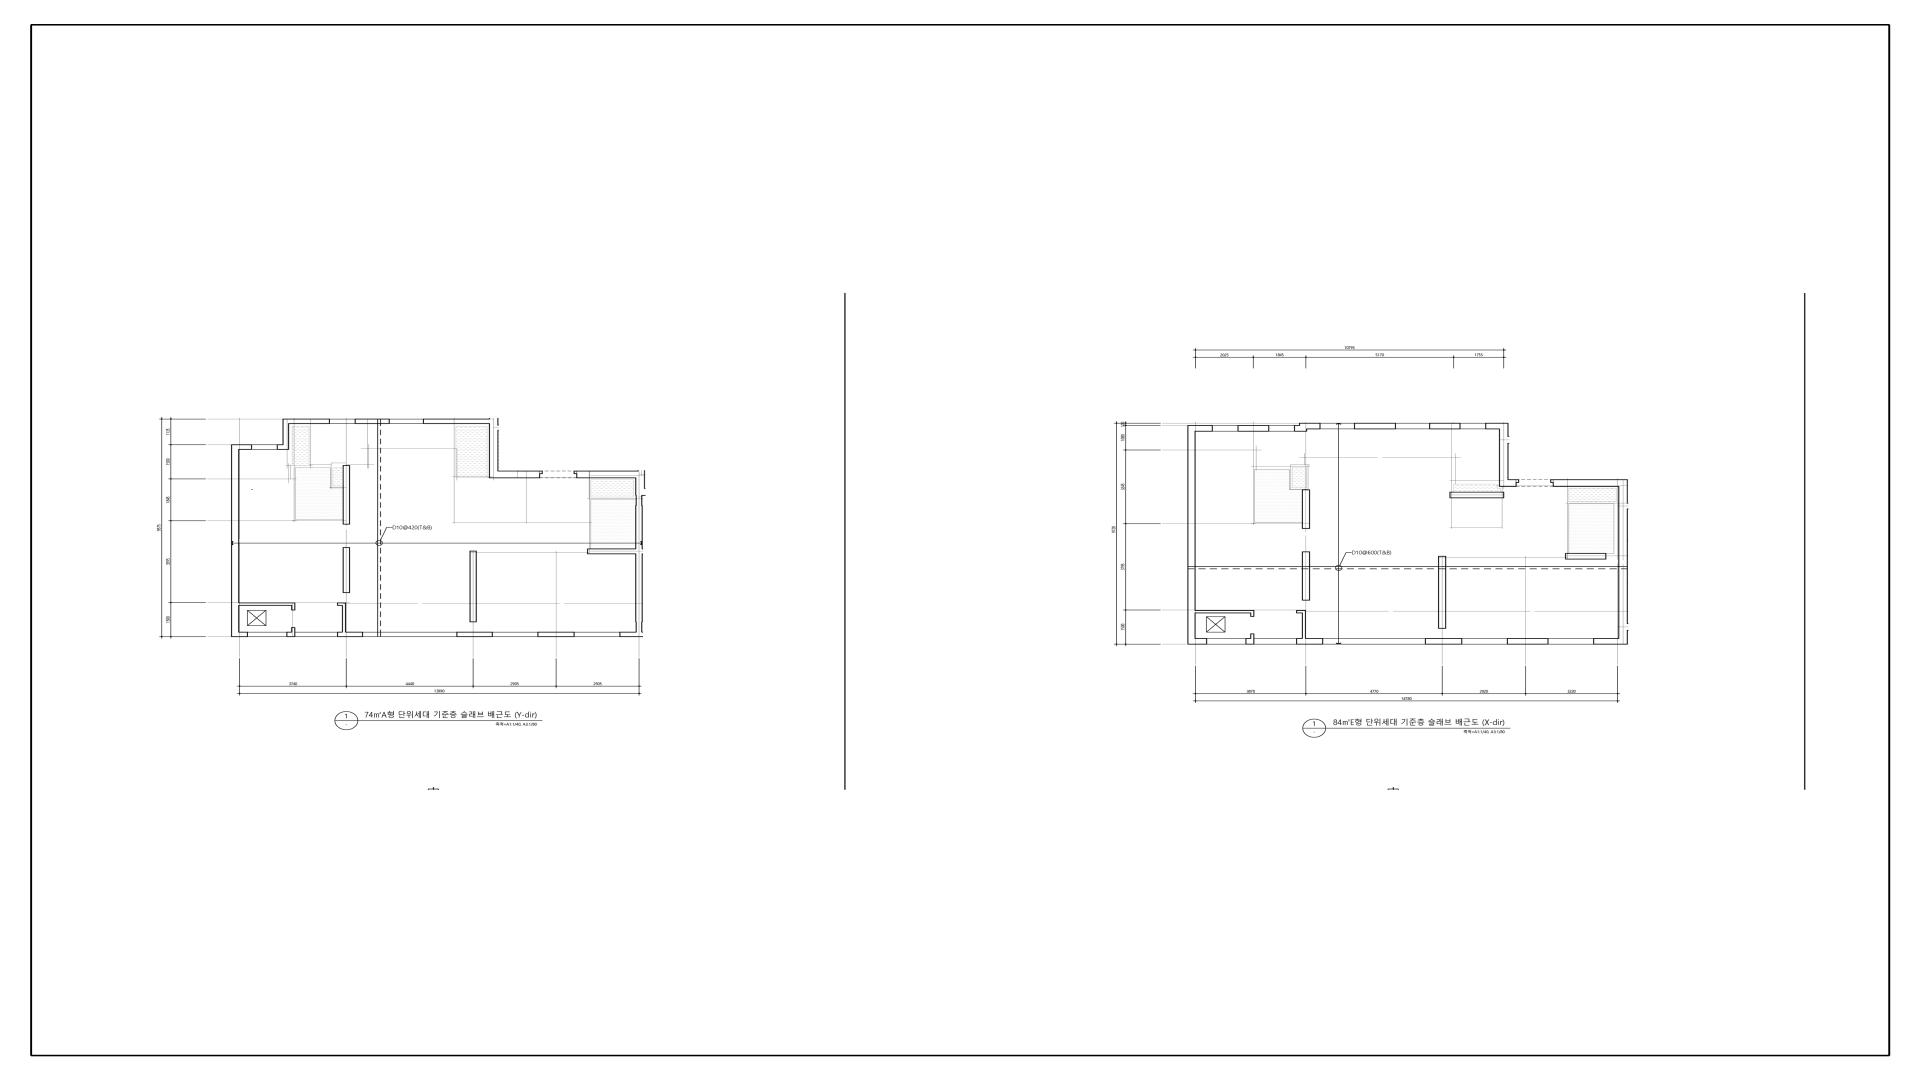wall: (1187, 432, 1196, 638), (1618, 487, 1628, 638), (231, 450, 239, 632), (635, 496, 643, 632), (1553, 479, 1628, 487), (1438, 556, 1446, 629), (1499, 429, 1509, 479), (470, 551, 477, 622), (489, 424, 498, 478), (576, 471, 645, 478), (343, 465, 350, 525), (1302, 552, 1310, 601), (423, 419, 498, 424), (1449, 492, 1504, 498), (343, 547, 350, 593), (1302, 490, 1310, 529), (1507, 638, 1549, 645), (499, 471, 540, 478), (1565, 553, 1606, 560), (1425, 638, 1462, 645), (1354, 423, 1396, 429), (1593, 638, 1628, 645), (587, 549, 635, 554), (1237, 425, 1269, 432), (289, 419, 330, 424), (1429, 423, 1461, 429), (1296, 638, 1323, 645), (538, 632, 575, 637), (456, 632, 493, 637), (1187, 425, 1213, 432), (635, 478, 645, 496), (355, 419, 390, 424), (1196, 610, 1250, 613), (239, 603, 291, 606), (283, 419, 289, 444), (1485, 423, 1509, 429), (1499, 479, 1517, 487), (1187, 638, 1207, 645), (337, 632, 363, 637), (231, 444, 252, 450), (620, 632, 643, 637), (342, 606, 346, 632), (1302, 614, 1306, 638), (231, 632, 248, 637), (1307, 423, 1321, 429), (277, 444, 289, 450), (1299, 423, 1307, 432), (1245, 638, 1254, 645), (286, 632, 295, 637), (1294, 425, 1299, 432), (291, 603, 295, 611), (1296, 610, 1306, 613), (1250, 610, 1254, 617), (337, 603, 346, 606), (291, 627, 295, 632), (1250, 634, 1254, 638), (1550, 479, 1553, 483), (540, 471, 543, 474), (1517, 479, 1519, 483), (574, 471, 576, 474)
